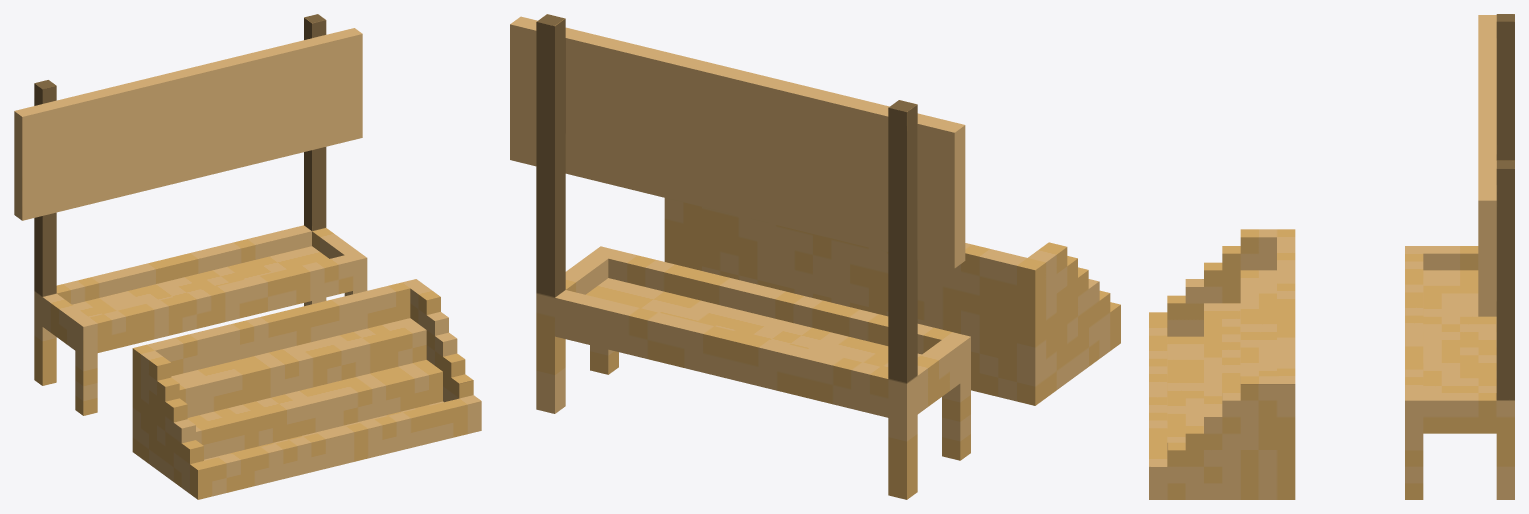
File: Shop_Simple.glb
3 views of the same model, side by side, from view 1: azimuth 30°, elevation 25°; view 2: azimuth 150°, elevation 25°; view 3: azimuth 270°, elevation 25° (orthographic). The views are drawn at different scales.
Visible parts, largest first — view 1: Shop_Simple; view 2: Shop_Simple; view 3: Shop_Simple.
Part boxes in pixels (x1,y1,x2,y2): Shop_Simple: (14,14,481,499); Shop_Simple: (510,14,1120,499); Shop_Simple: (1149,14,1514,499).
Bounding box in the file's own units: 2.4 × 2 × 2.
Materials: 1 (1 with a texture image).
